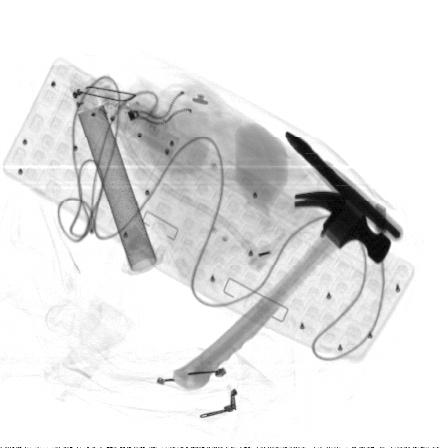Hammer: (171, 190, 394, 392)
Pliers: (285, 131, 404, 243)
